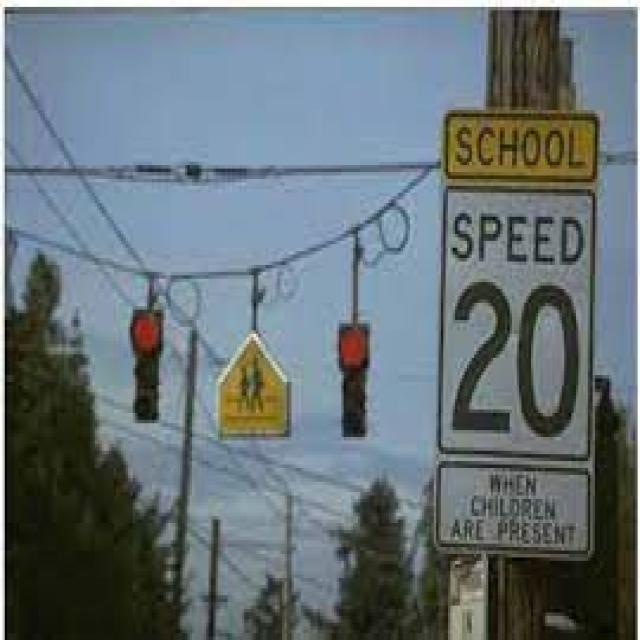Speed Limit Signs: (438, 176, 599, 562)
